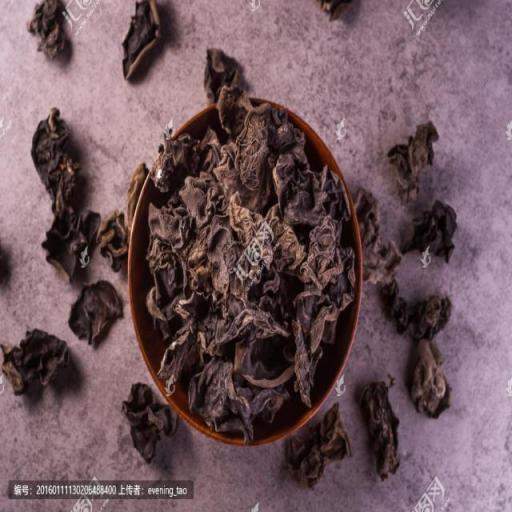mushroom: (142, 92, 355, 437), (34, 106, 100, 282), (383, 281, 454, 415), (284, 405, 353, 482), (2, 328, 74, 396), (356, 378, 402, 480), (122, 377, 176, 460), (351, 193, 401, 281), (386, 125, 441, 203), (402, 202, 457, 262), (121, 1, 162, 80), (27, 2, 70, 59), (202, 49, 242, 99), (100, 211, 130, 273)
